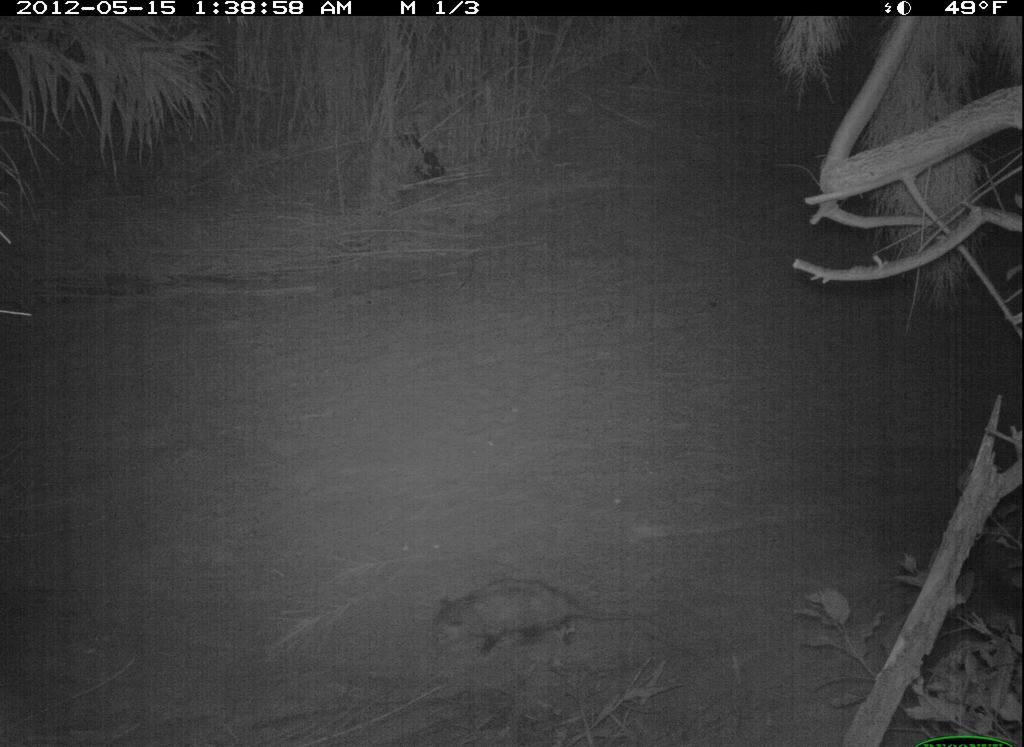opossum: (388, 564, 656, 680)
